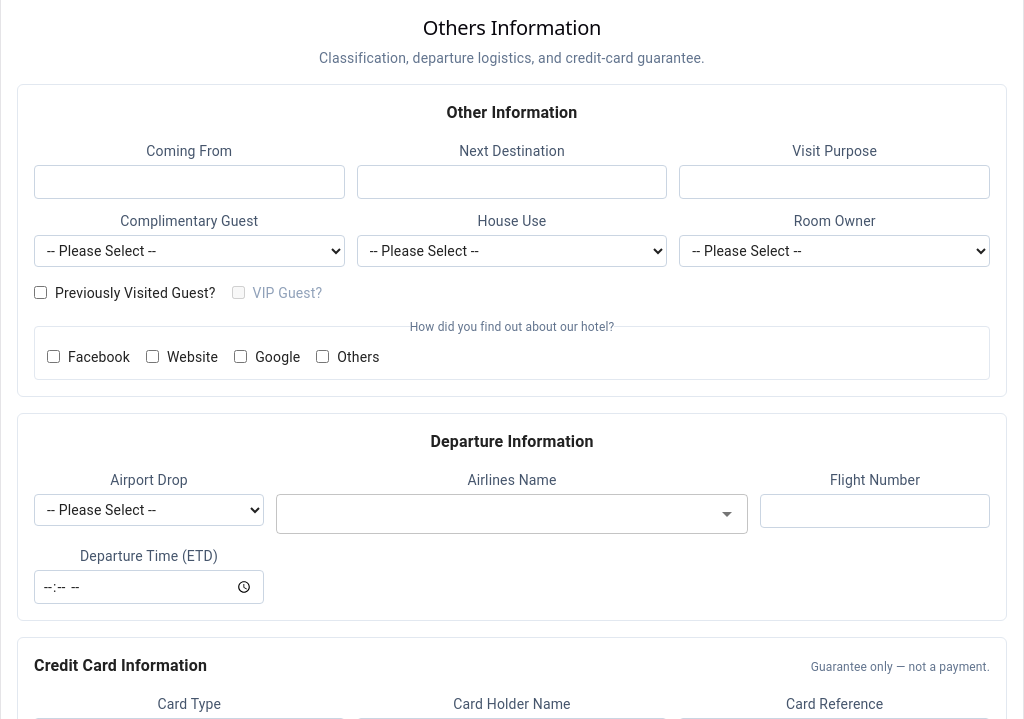
Test: OthersInformationTab — Section B (departure) › Airport Drop = YES reveals required markers on conditional fields
This screenshot has width=1024, height=719.
Select "YES" in the dropdown with test id "airport-drop" at (149, 510), box top-left (34, 494), bottom-right (264, 526)
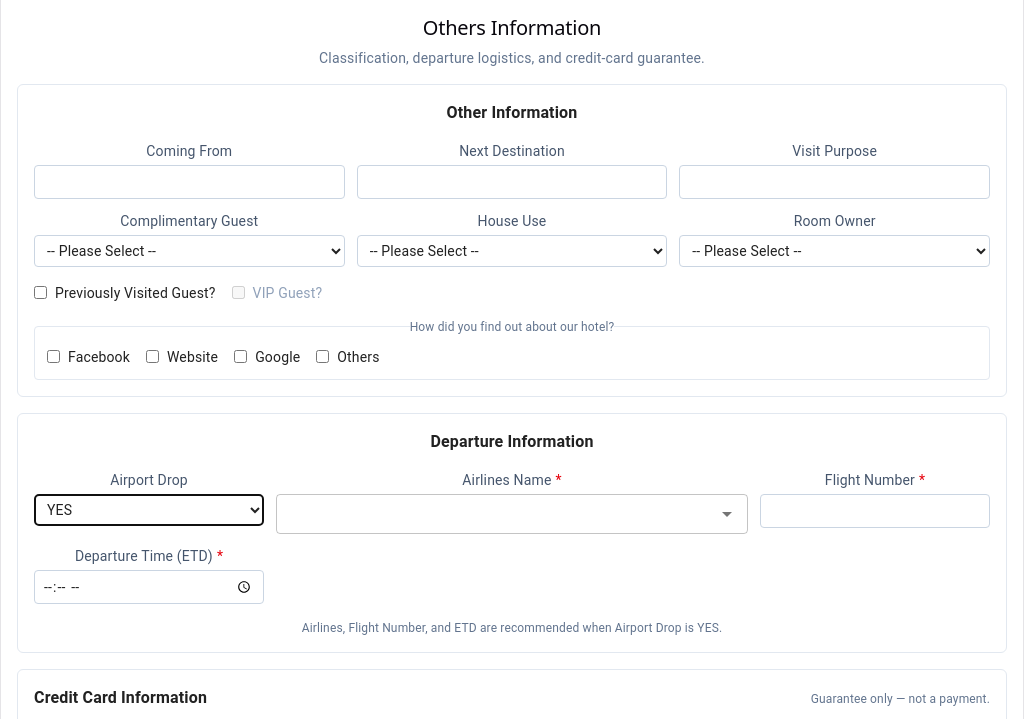
Now the text "Airlines, Flight Number, and ETD are recommended when Airport Drop is YES" is shown, box top-left (302, 621), bottom-right (722, 635)
